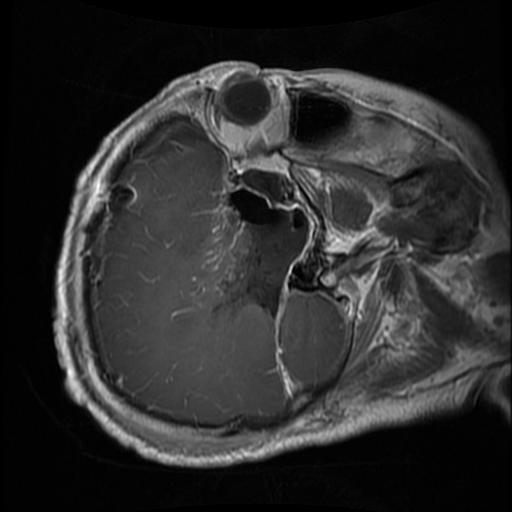glioma: (219, 186, 310, 314)
